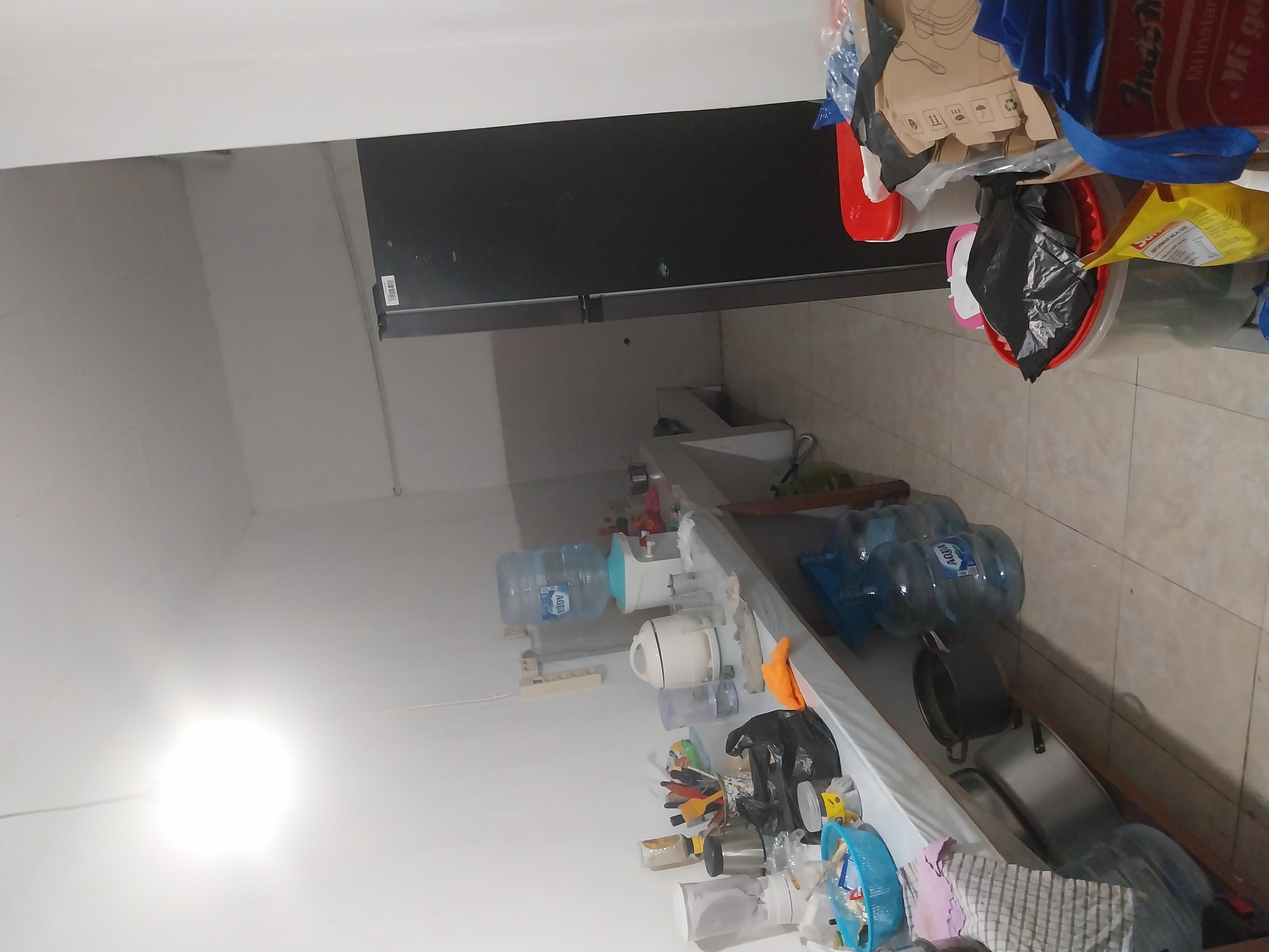bottle: (0, 792, 207, 933), (110, 478, 163, 529)
refrigerator: (818, 268, 1144, 713)
stove-merged: (687, 488, 716, 516)
table: (21, 500, 729, 843), (299, 540, 364, 584), (378, 537, 446, 556), (375, 553, 380, 555)
towel: (0, 700, 134, 855), (13, 675, 153, 725), (311, 564, 421, 613), (343, 549, 469, 576), (45, 674, 119, 694), (582, 484, 621, 495)
